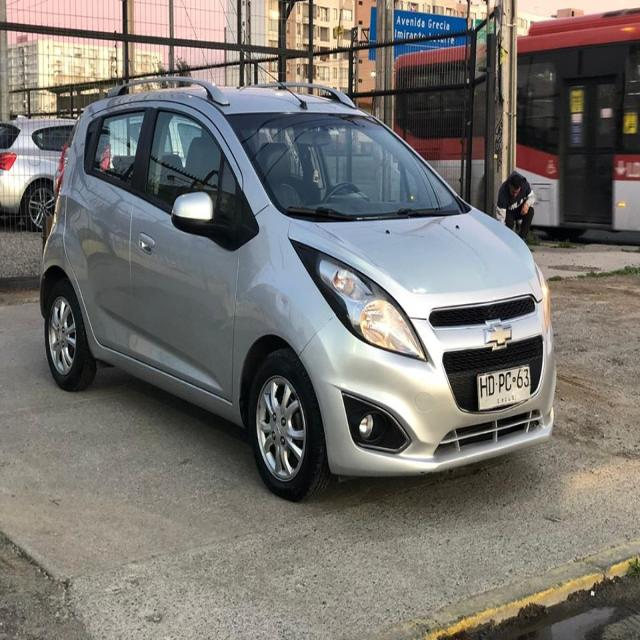patente: (476, 362, 531, 412)
